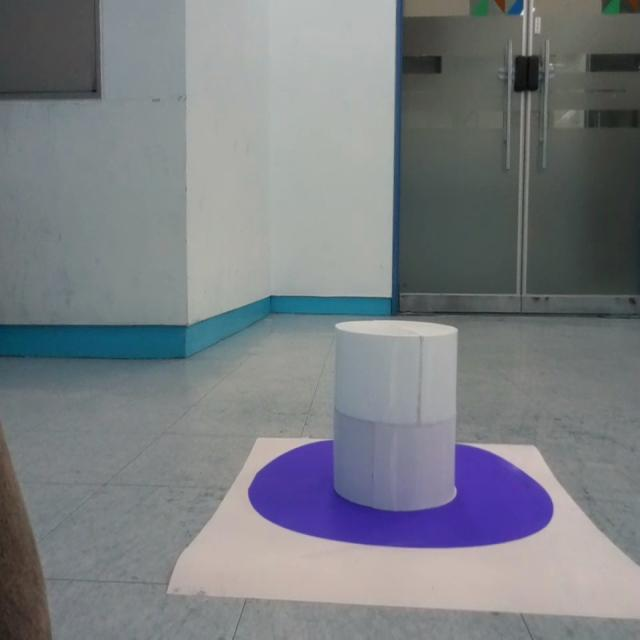cylinder: (332, 319, 458, 513)
